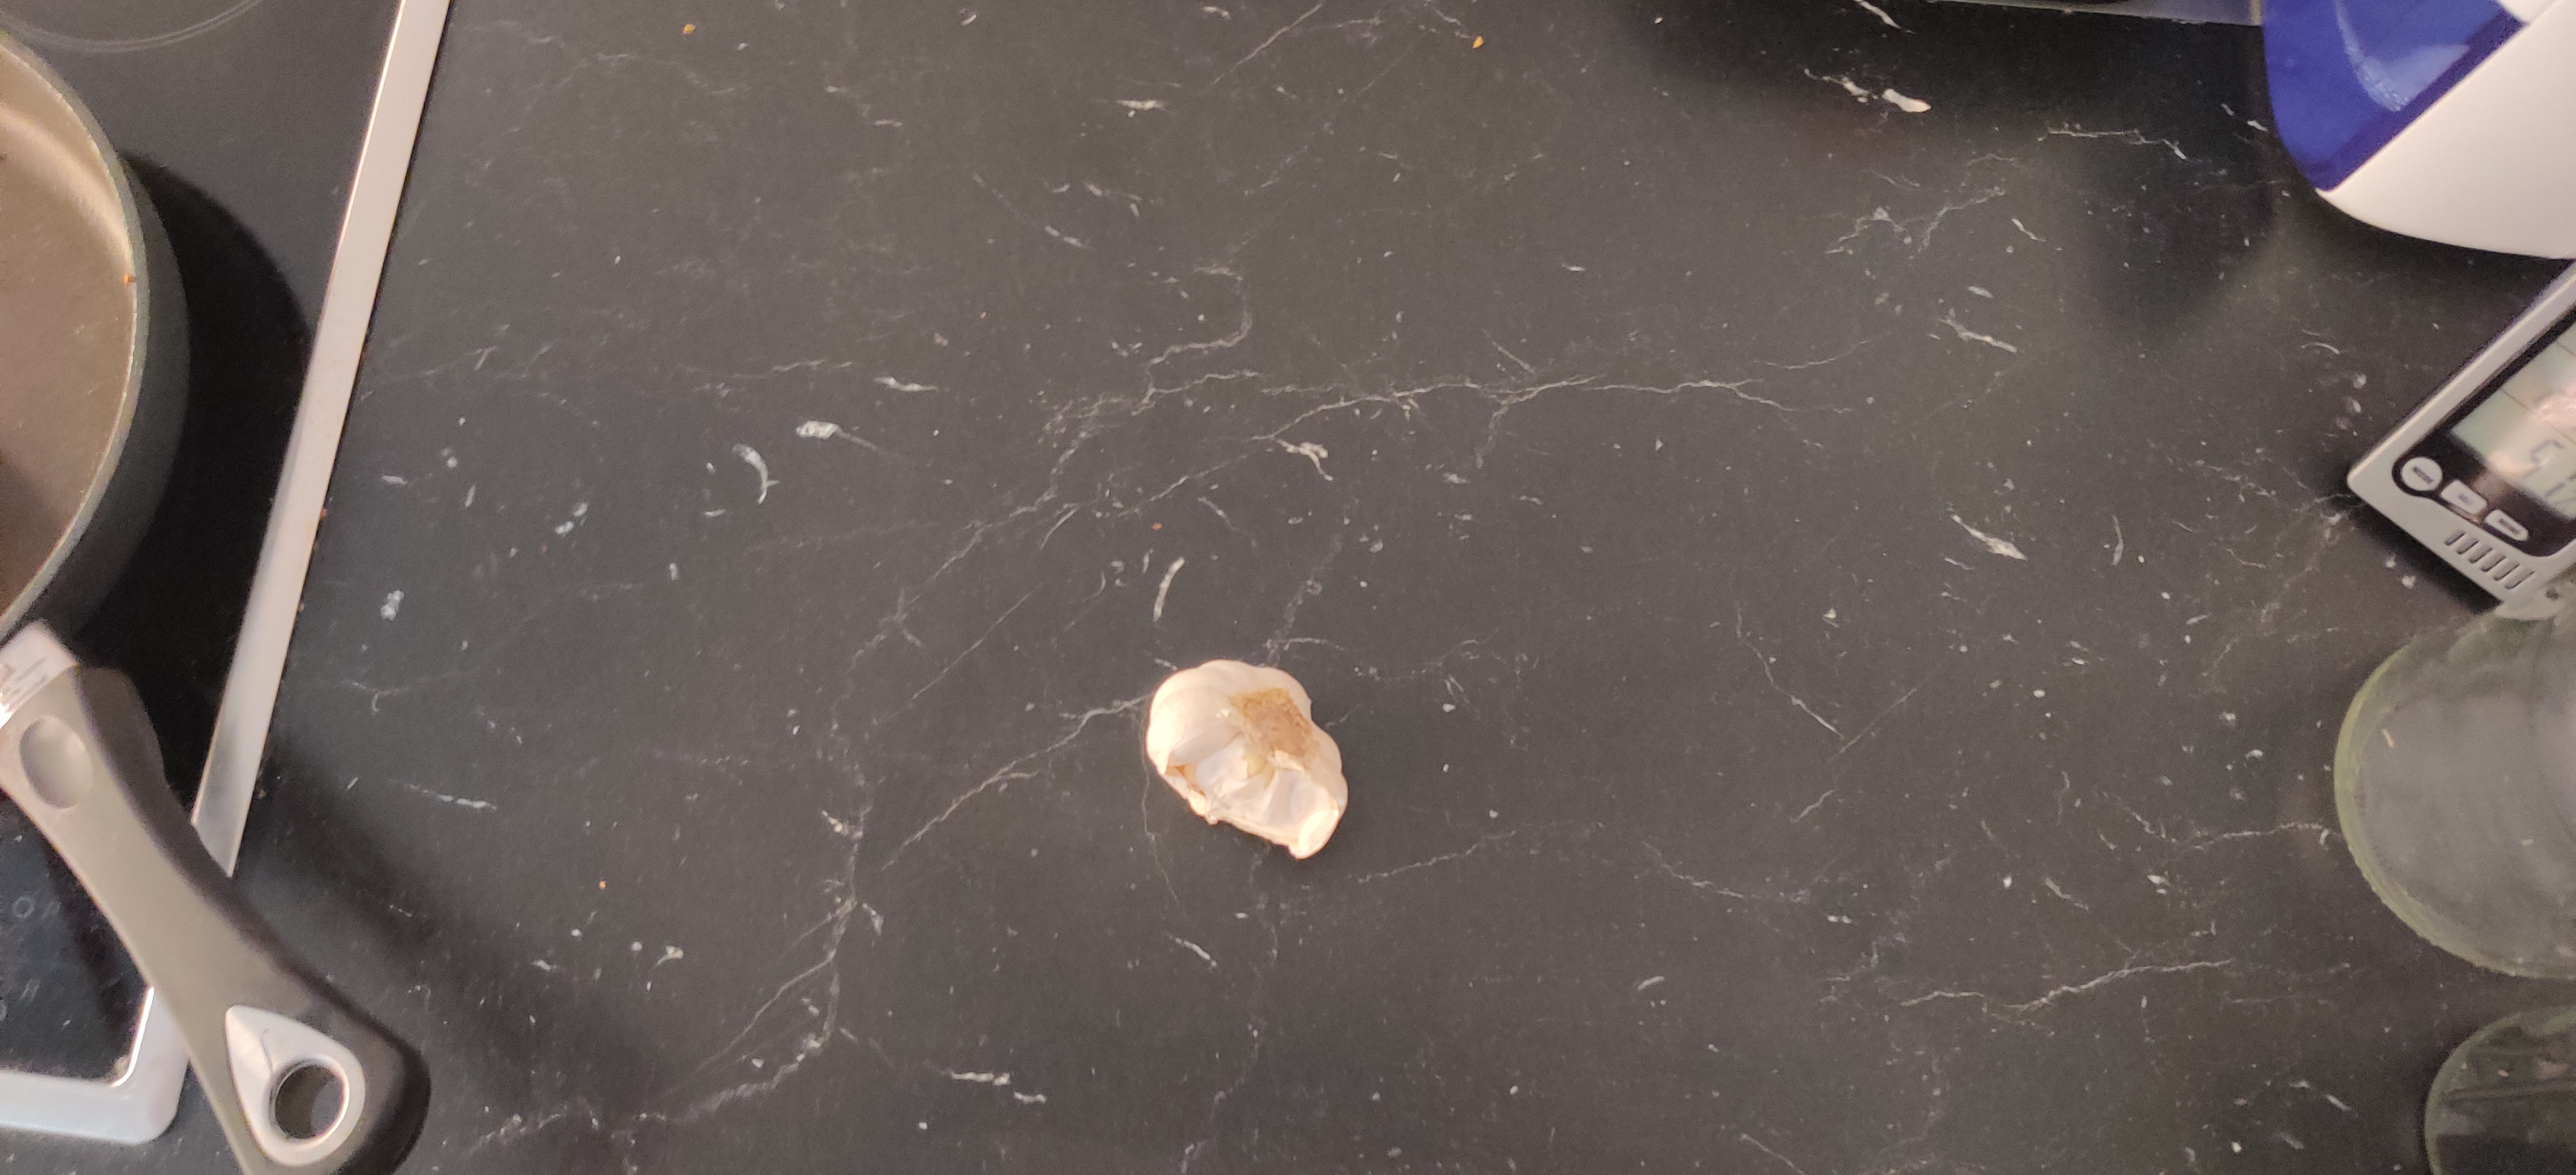Knoblauch: (1145, 661, 1349, 859)
